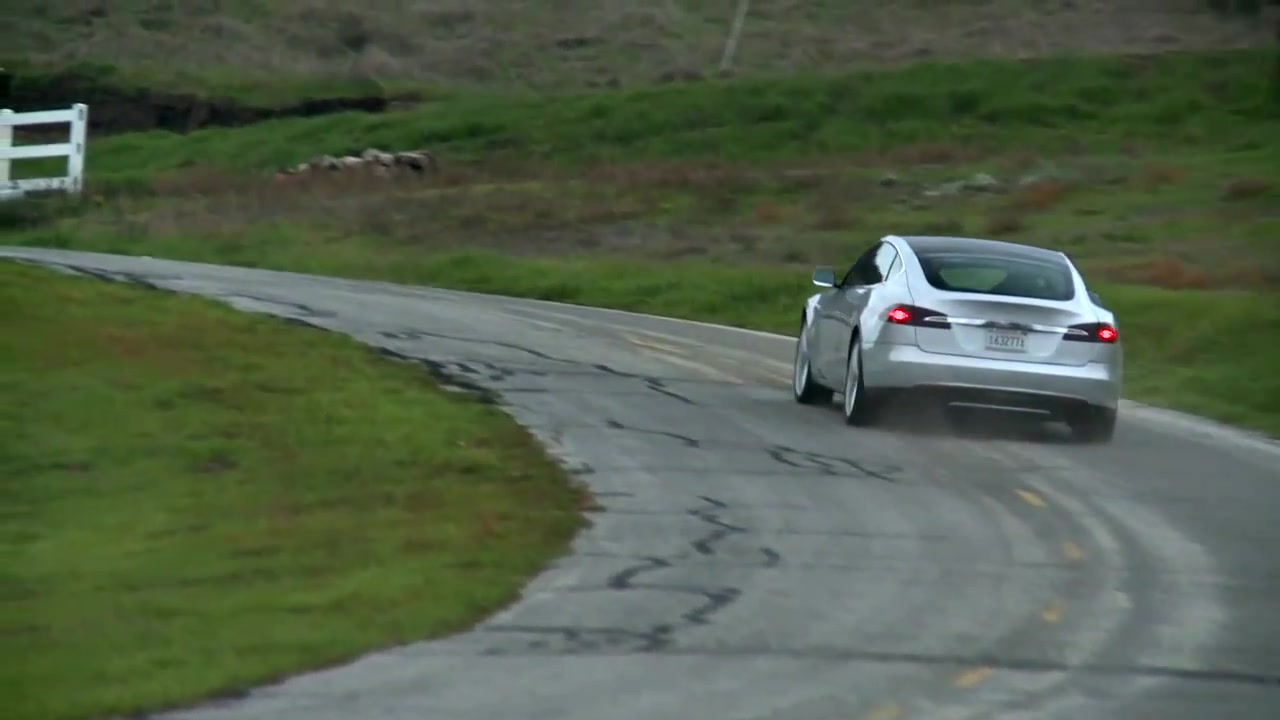car: (790, 232, 1123, 440)
